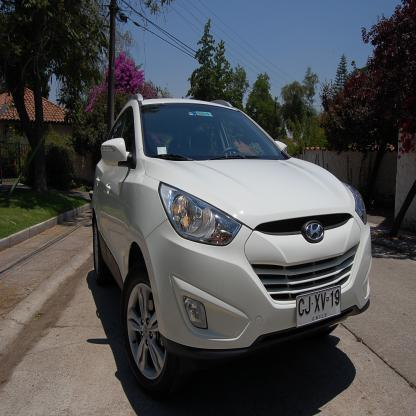Vehicle: (91, 93, 374, 387)
